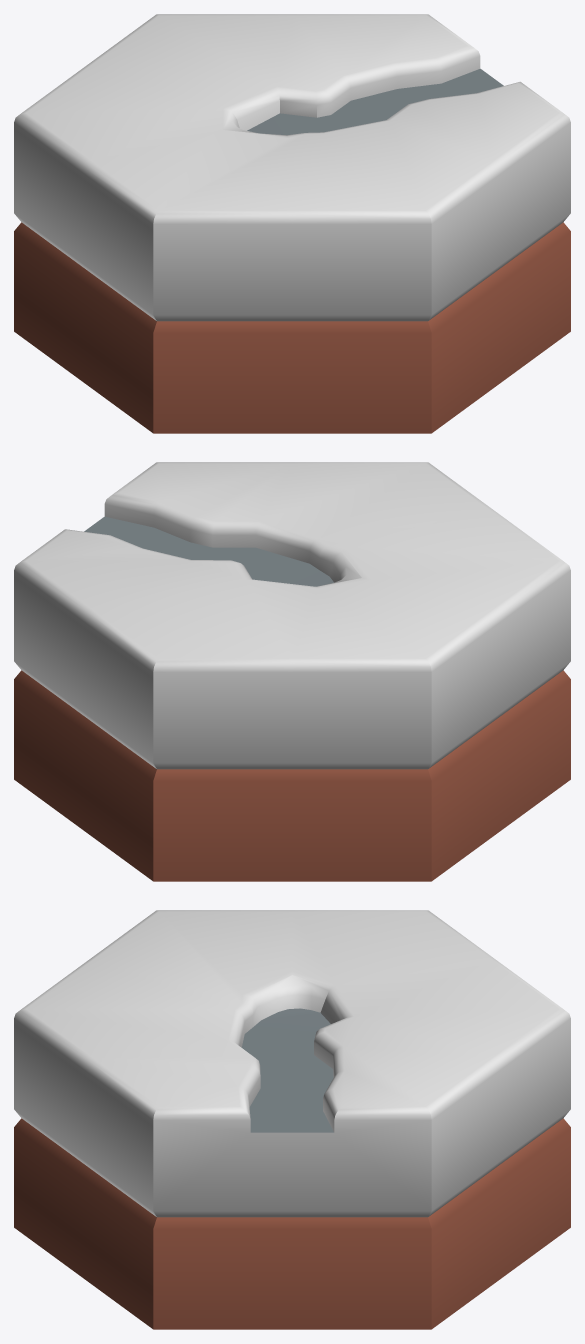
Rendered from hex_snow_roadA_detail.gltf.glb.
The picture shows the model from 3 angles, top to bottom: view 1: azimuth 30°, elevation 25°; view 2: azimuth 150°, elevation 25°; view 3: azimuth 270°, elevation 25°; orthographic projection.
Parts seen in each view (by area): view 1: hex_snow_roadA_detail; view 2: hex_snow_roadA_detail; view 3: hex_snow_roadA_detail.
Part boxes in pixels (box(x1,y1,x2,y2)): hex_snow_roadA_detail: box(14, 14, 570, 433); hex_snow_roadA_detail: box(14, 462, 570, 881); hex_snow_roadA_detail: box(14, 910, 570, 1329).
Size of the model in its own units: 2 by 1 by 2.31.
